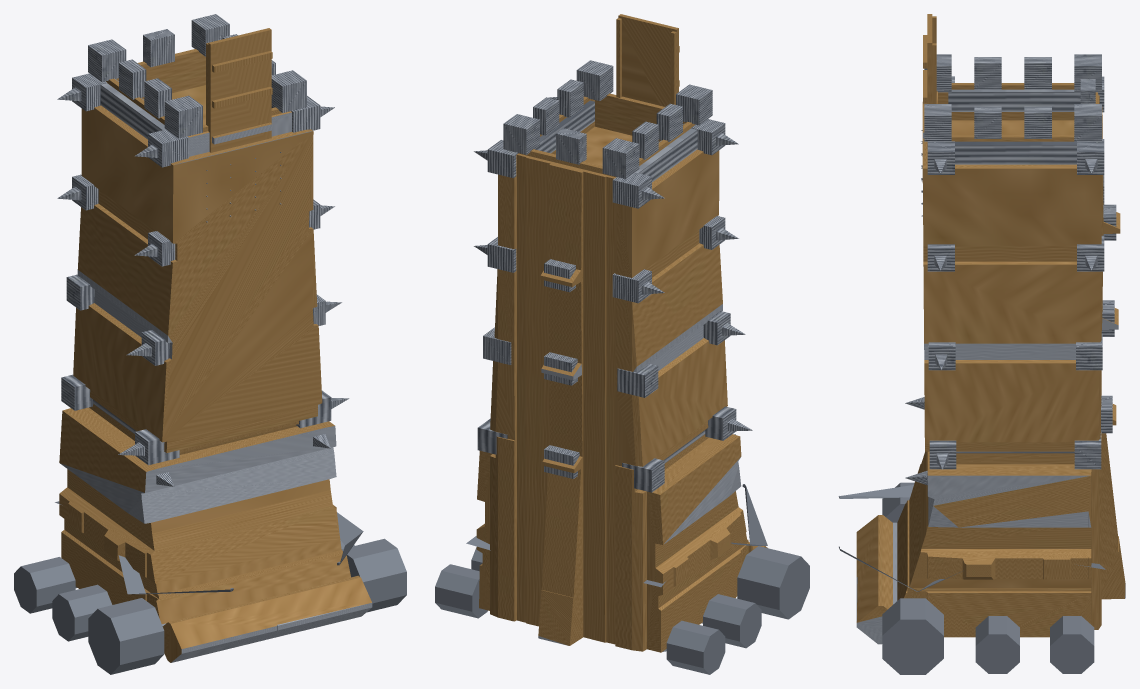
Rendered from ae_siege_tower_open_large_iron_lod0.glb.
3 views of the same model, side by side, from view 1: azimuth 30°, elevation 25°; view 2: azimuth 150°, elevation 25°; view 3: azimuth 270°, elevation 25° (orthographic). The views are drawn at different scales.
Parts seen in each view (by area): view 1: siege_tower_open_large, drawbridge; view 2: siege_tower_open_large, drawbridge; view 3: siege_tower_open_large, drawbridge.
Boxes of the visible parts, left/top/right/bottom form: siege_tower_open_large: left=14, top=14, right=406, bottom=674; drawbridge: left=206, top=28, right=272, bottom=152; siege_tower_open_large: left=435, top=60, right=809, bottom=674; drawbridge: left=616, top=14, right=679, bottom=106; siege_tower_open_large: left=838, top=54, right=1125, bottom=674; drawbridge: left=923, top=14, right=936, bottom=148.
Bounding box in the file's own units: 67.27 × 133 × 59.65.
Materials: 4 (3 with a texture image).
